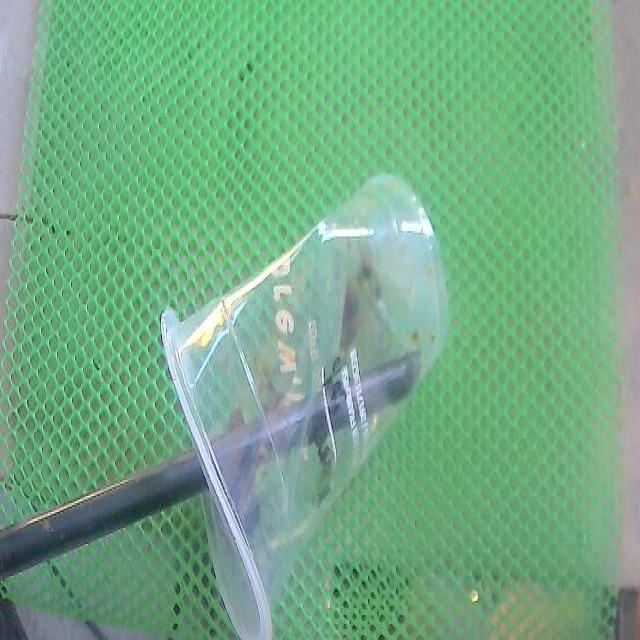bottle: (162, 176, 448, 638)
